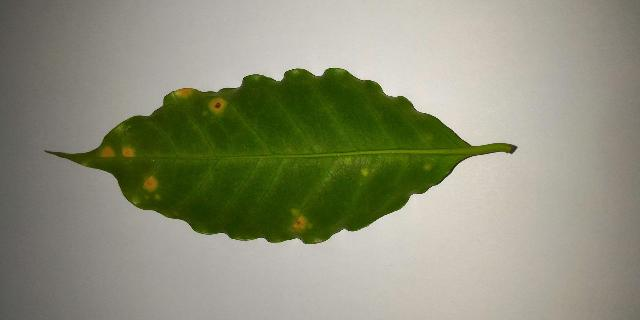miner: (142, 173, 160, 200), (290, 210, 311, 232), (170, 88, 199, 101), (208, 97, 227, 116), (100, 145, 116, 159), (121, 144, 136, 158), (362, 168, 371, 176), (423, 164, 430, 169)
